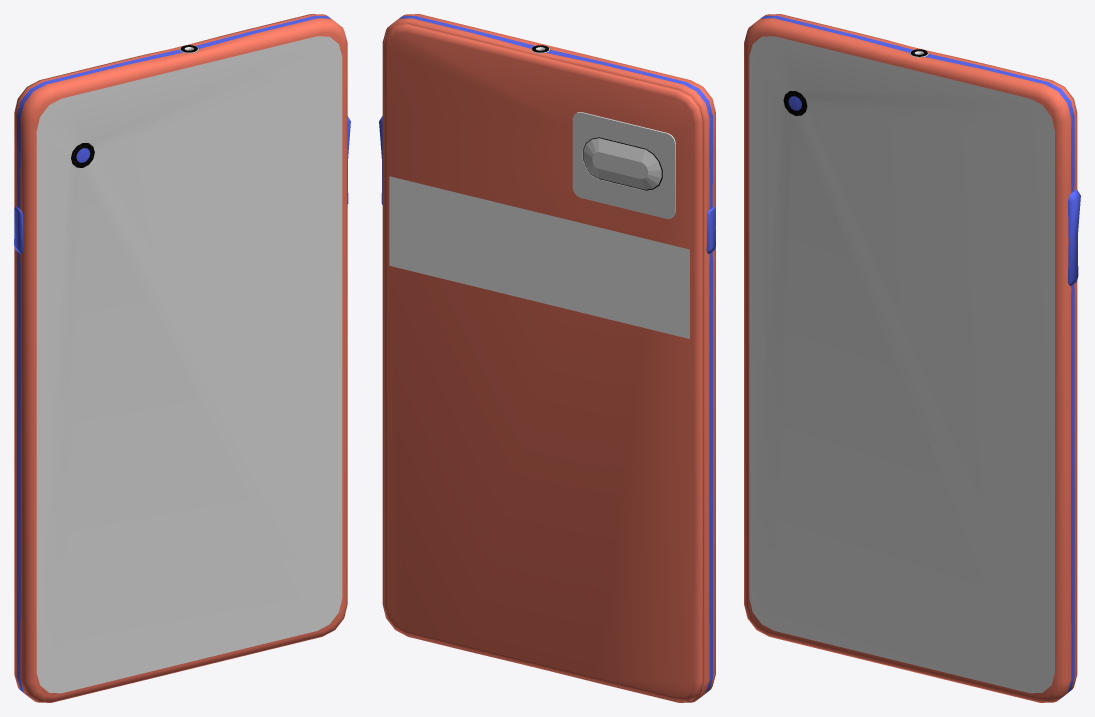
Rendered from Phone_FBX.fbx.
3 renders of one model, left to right at view 1: azimuth 30°, elevation 25°; view 2: azimuth 150°, elevation 25°; view 3: azimuth 330°, elevation 25°, orthographic.
Visible parts, largest first — view 1: Phone Screen, Phone; view 2: Phone, Back Writing Plate, BAck CAmera Plate, BAck Camera Cower Glass; view 3: Phone Screen, Phone, Button 1.
Part boxes in pixels (<box>): Phone Screen: <box>36,36,342,693</box>; Phone: <box>14,14,347,702</box>; Phone: <box>382,14,715,702</box>; Back Writing Plate: <box>389,176,689,338</box>; BAck CAmera Plate: <box>572,112,675,218</box>; BAck Camera Cower Glass: <box>583,137,662,190</box>; Phone Screen: <box>749,36,1054,693</box>; Phone: <box>744,14,1077,702</box>; Button 1: <box>1068,189,1080,286</box>.
Bounding box in the file's own units: 111 × 200 × 11.97.
